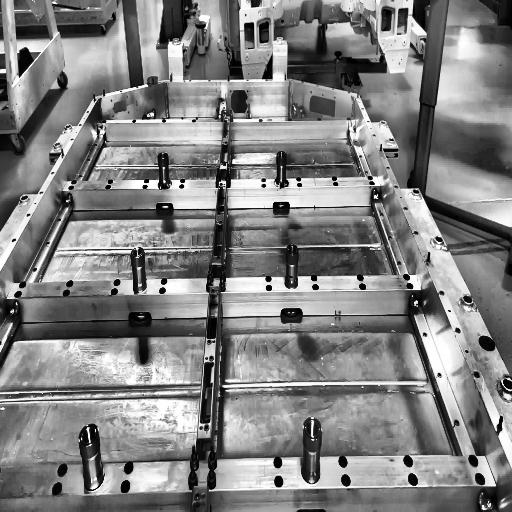b_casing: (0, 77, 512, 512)
